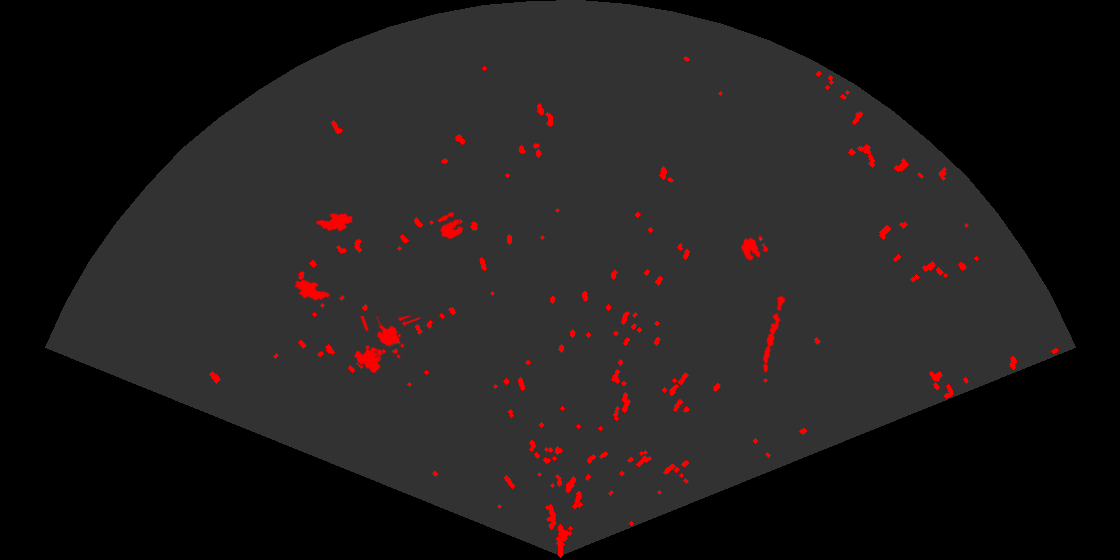AUV: (293, 278, 332, 302), (314, 211, 355, 233)
ball: (436, 210, 465, 241), (739, 234, 770, 263)
cage: (352, 316, 420, 375)
chain: (761, 290, 787, 374)
